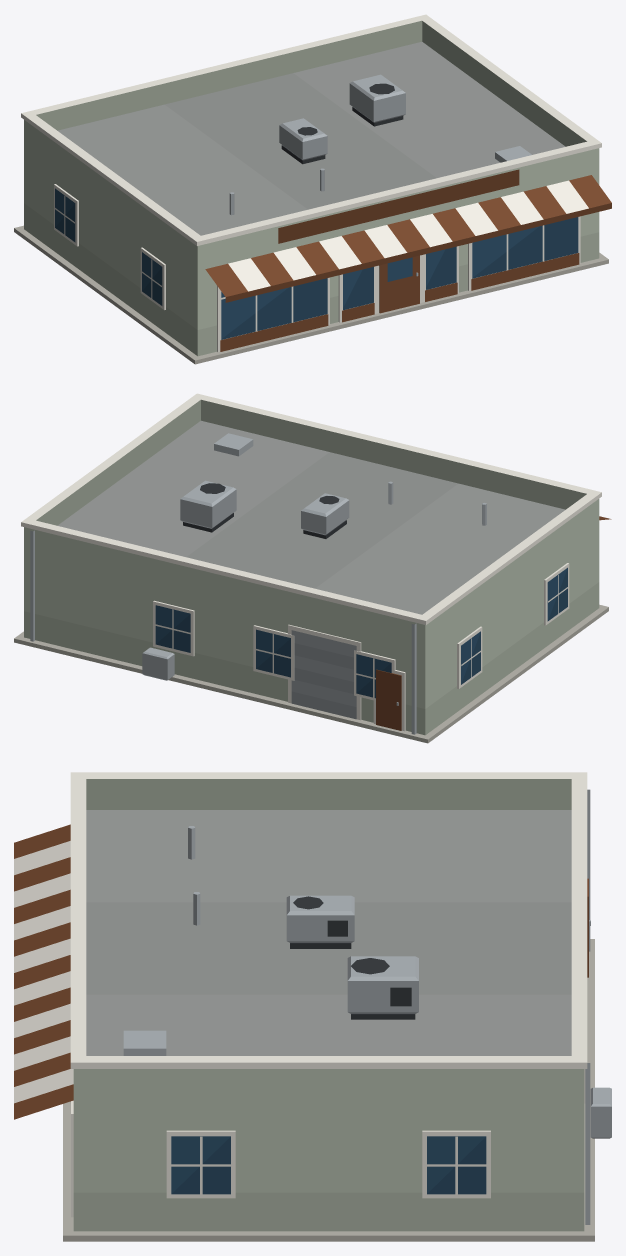
The model's file is store_16x12.glb.
3 views of the same model, one above another, from view 1: azimuth 30°, elevation 25°; view 2: azimuth 150°, elevation 25°; view 3: azimuth 270°, elevation 25° (orthographic). The views are drawn at different scales.
Visible parts, largest first — view 1: block; view 2: block; view 3: block.
Boxes of the visible parts, x1,y1,x2,y2 form: block: (14, 14, 611, 364); block: (14, 393, 611, 743); block: (14, 772, 611, 1241).
Size of the model in its own units: 16.5 by 4.87 by 14.05.
